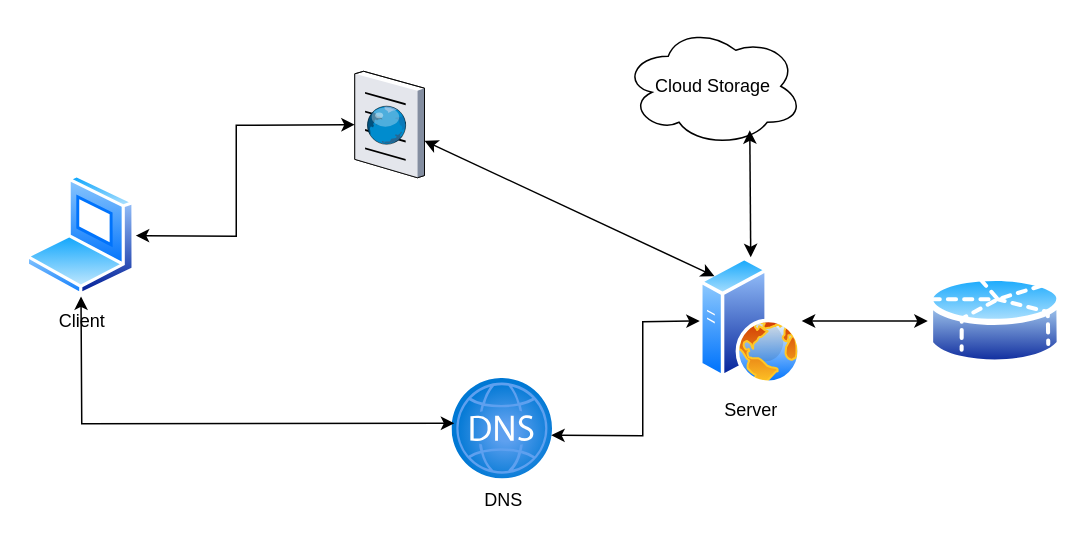
The diagram is 1089 pixels wide and 537 high, and some of its shapes have lost their labels. The box of each missing label's shape, as (x1, y1, x2, y2) in pixels:
Browser: (354, 70, 424, 177)
Database: (927, 270, 1063, 370)
